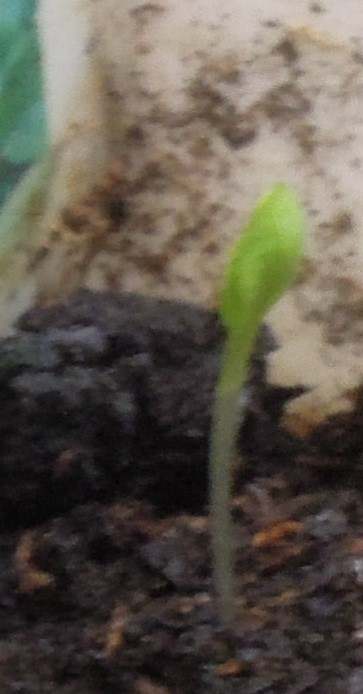week1: (162, 185, 340, 398)
